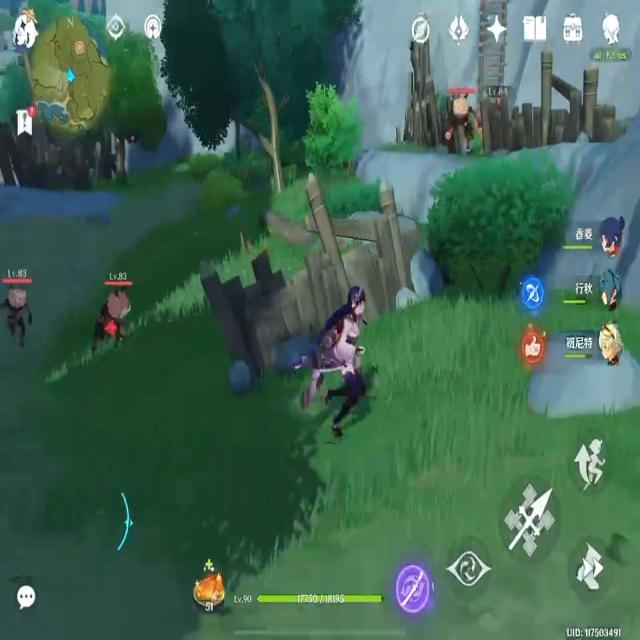genshin-hilichurls: (95, 280, 129, 346), (449, 96, 482, 156), (4, 281, 34, 344)
